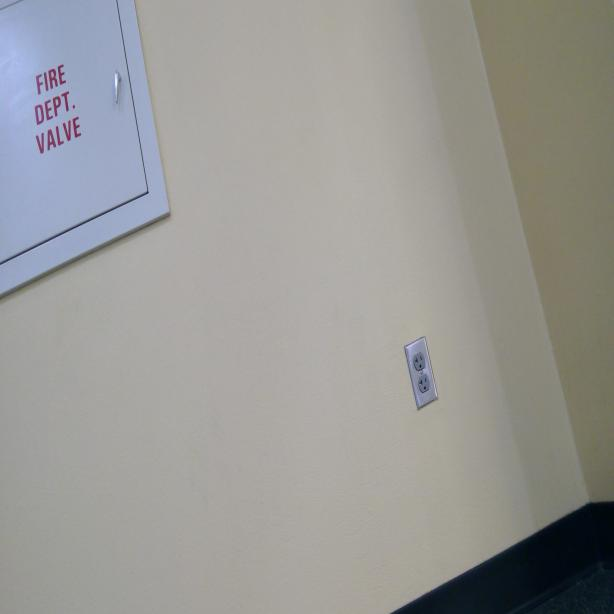typeb: (413, 351, 427, 370), (419, 373, 431, 395)
